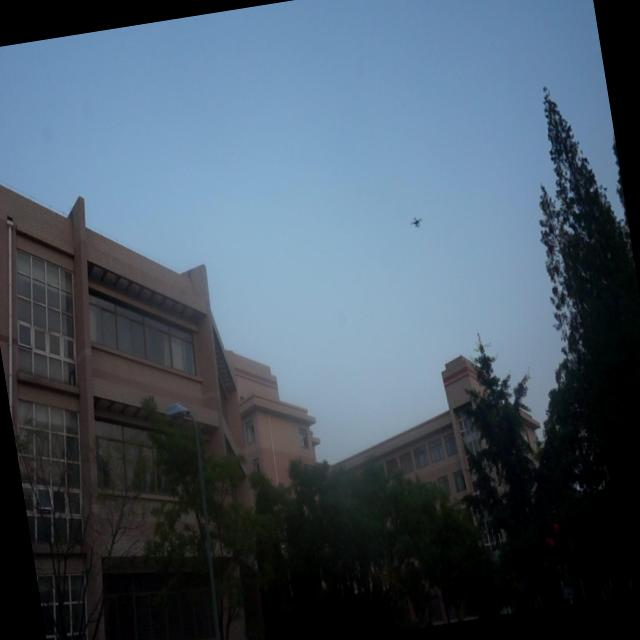drone: (406, 212, 426, 232)
